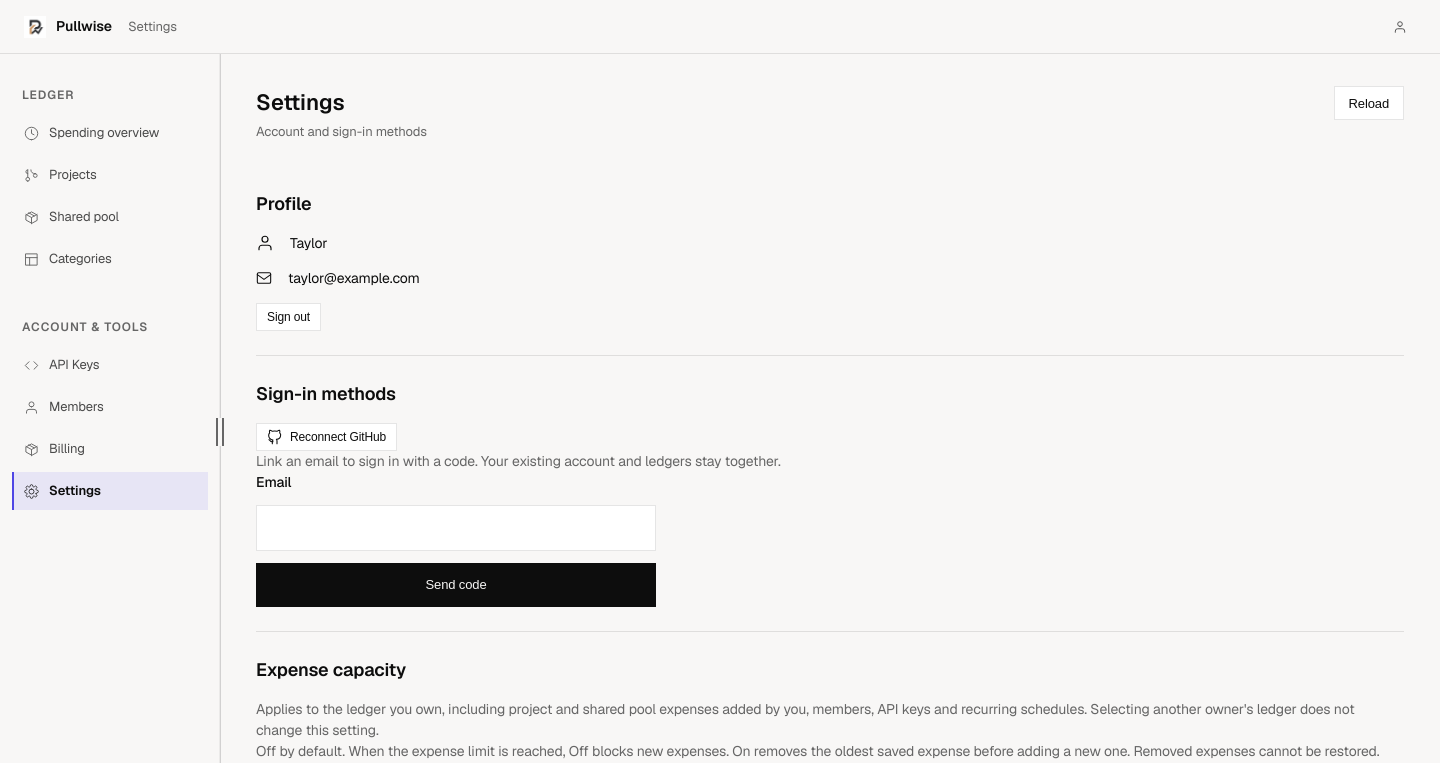
it: product settings › offers account reauthorization for a successful integration read with no renewable credentials
Click the button "Reconnect GitHub".
click(327, 437)  # box [256,423,397,451]
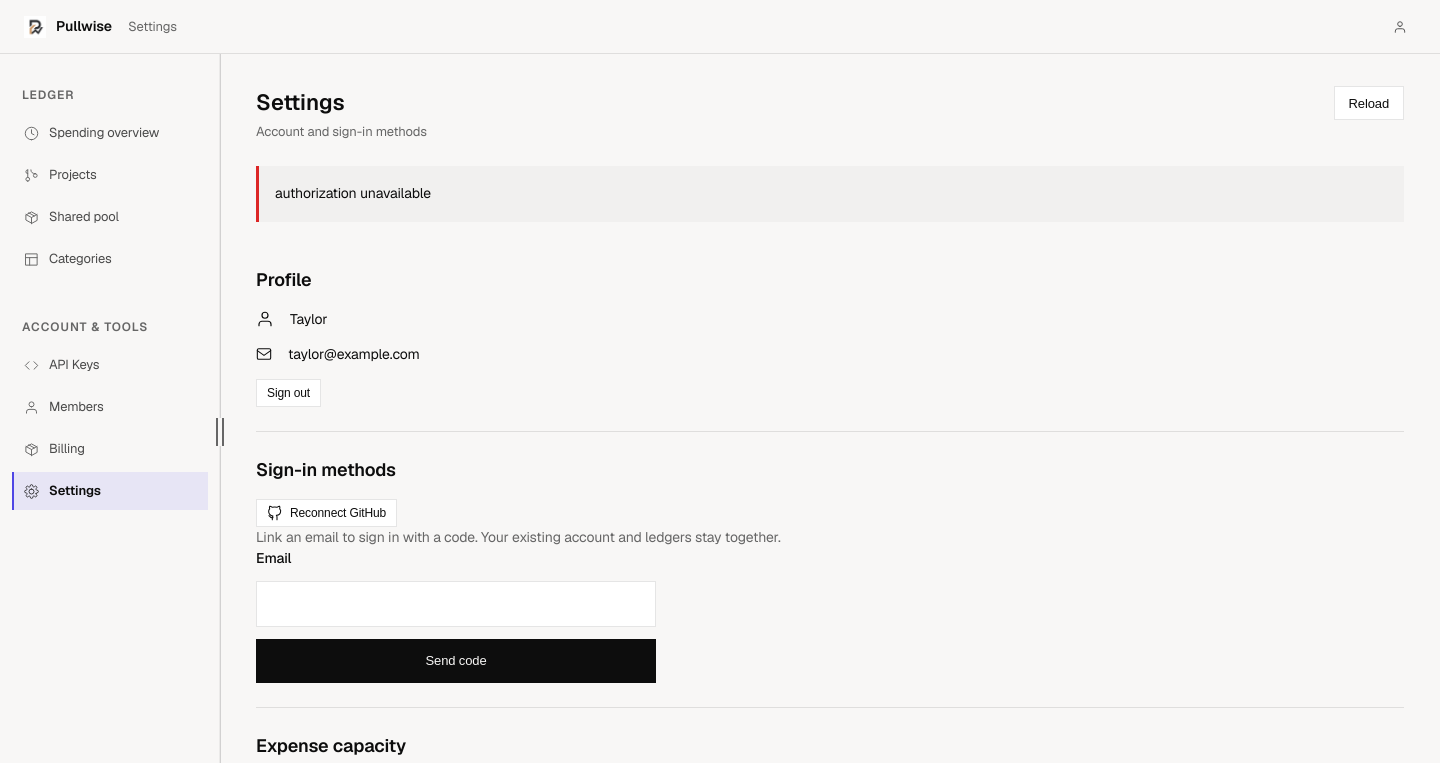
Expected: the message reads "authorization unavailable", [275,184,431,202]
